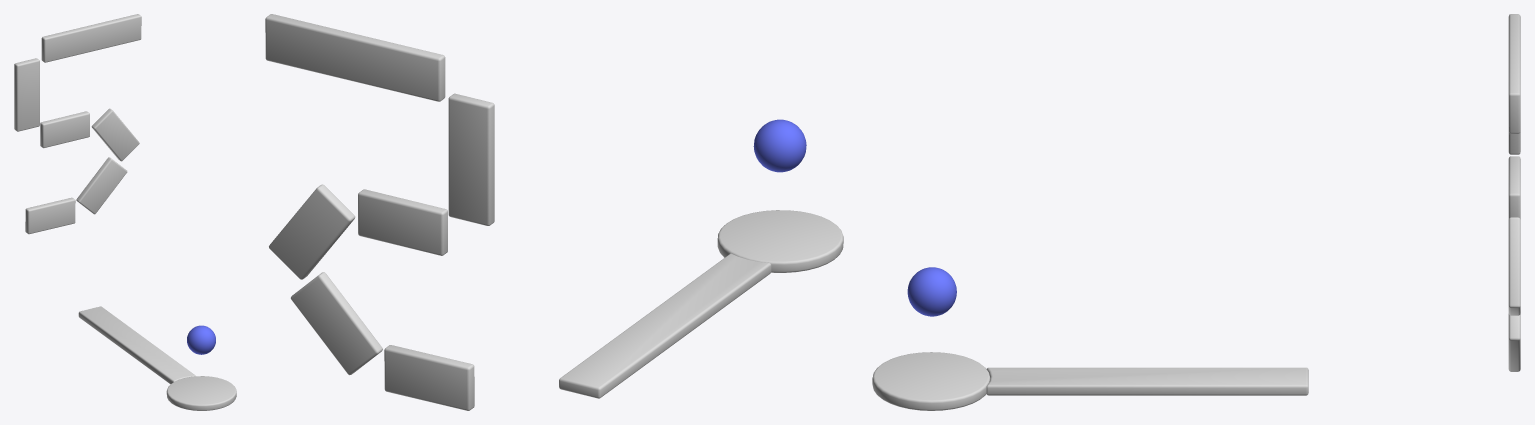
File: level5.glb
3 views of the same model, side by side, from view 1: azimuth 30°, elevation 25°; view 2: azimuth 150°, elevation 25°; view 3: azimuth 270°, elevation 25° (orthographic). The views are drawn at different scales.
Parts seen in each view (by area): view 1: Cube.003, Cube, Start, Cube.009, Cube.005, Cube.004, Cube.001, Cube.002, Player; view 2: Cube, Cube.003, Start, Cube.009, Cube.005, Cube.004, Cube.001, Cube.002, Player; view 3: Cube, Start, Player, Cube.003, Cube.002, Cube.001, Cube.004.
Part boxes in pixels (x1=…): Cube.003: x1=41, y1=14, x2=141, y2=62; Cube: x1=78, y1=306, x2=195, y2=384; Start: x1=166, y1=376, x2=236, y2=410; Cube.009: x1=14, y1=58, x2=39, y2=131; Cube.005: x1=25, y1=197, x2=75, y2=234; Cube.004: x1=76, y1=157, x2=127, y2=214; Cube.001: x1=40, y1=111, x2=89, y2=148; Cube.002: x1=91, y1=108, x2=139, y2=161; Player: x1=187, y1=325, x2=215, y2=354; Cube: x1=559, y1=253, x2=771, y2=398; Cube.003: x1=265, y1=14, x2=445, y2=101; Start: x1=717, y1=210, x2=843, y2=272; Cube.009: x1=448, y1=93, x2=494, y2=225; Cube.005: x1=384, y1=345, x2=474, y2=410; Cube.004: x1=290, y1=272, x2=382, y2=375; Cube.001: x1=358, y1=189, x2=447, y2=255; Cube.002: x1=269, y1=184, x2=355, y2=279; Player: x1=753, y1=119, x2=806, y2=172; Cube: x1=986, y1=367, x2=1308, y2=395; Start: x1=872, y1=352, x2=990, y2=410; Player: x1=907, y1=267, x2=956, y2=316; Cube.003: x1=1508, y1=14, x2=1520, y2=133; Cube.002: x1=1508, y1=217, x2=1520, y2=315; Cube.001: x1=1508, y1=156, x2=1520, y2=219; Cube.004: x1=1508, y1=313, x2=1520, y2=371.
Bounding box in the file's own units: 11.17 × 17.2 × 26.21.
